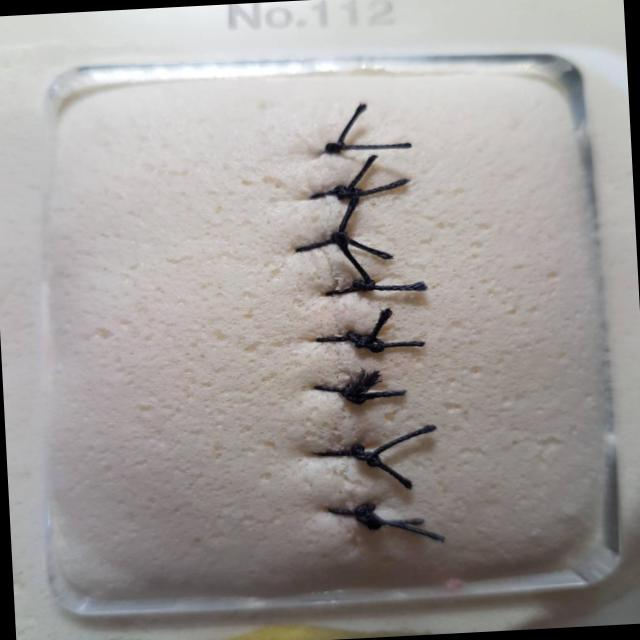knot: (349, 331, 384, 353), (356, 503, 381, 531), (352, 445, 380, 466), (342, 386, 365, 404), (333, 186, 361, 200), (332, 231, 349, 245), (354, 282, 375, 291), (326, 143, 344, 153)
leftover: (367, 423, 438, 456), (367, 515, 446, 542), (359, 451, 414, 488), (332, 102, 367, 152), (338, 244, 373, 286), (340, 237, 395, 260), (344, 153, 376, 192), (344, 178, 412, 196), (335, 195, 359, 243), (367, 306, 391, 341), (351, 368, 381, 395), (358, 337, 427, 348), (335, 143, 413, 152), (351, 389, 409, 399), (374, 516, 427, 524), (354, 284, 430, 289)
stitch: (292, 235, 351, 254), (325, 507, 383, 522), (322, 281, 377, 296), (307, 186, 357, 199), (312, 385, 364, 396), (313, 336, 381, 343), (312, 451, 379, 456), (319, 146, 344, 154)
wound: (322, 120, 358, 525)
